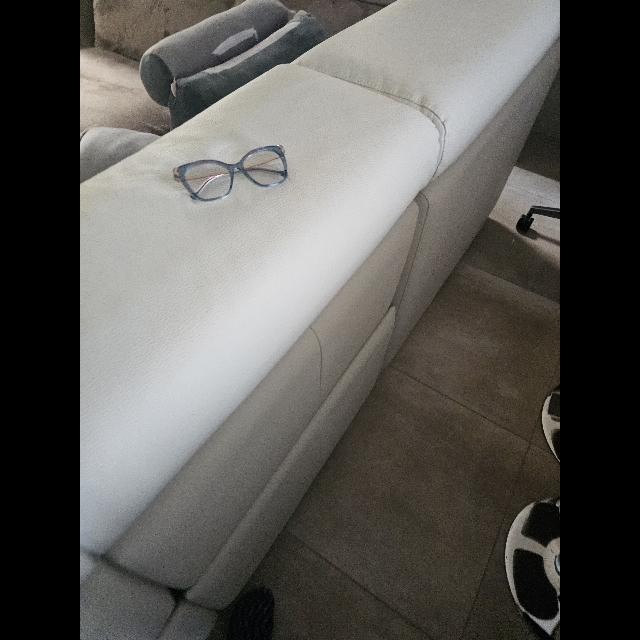glasses: (173, 145, 287, 201)
